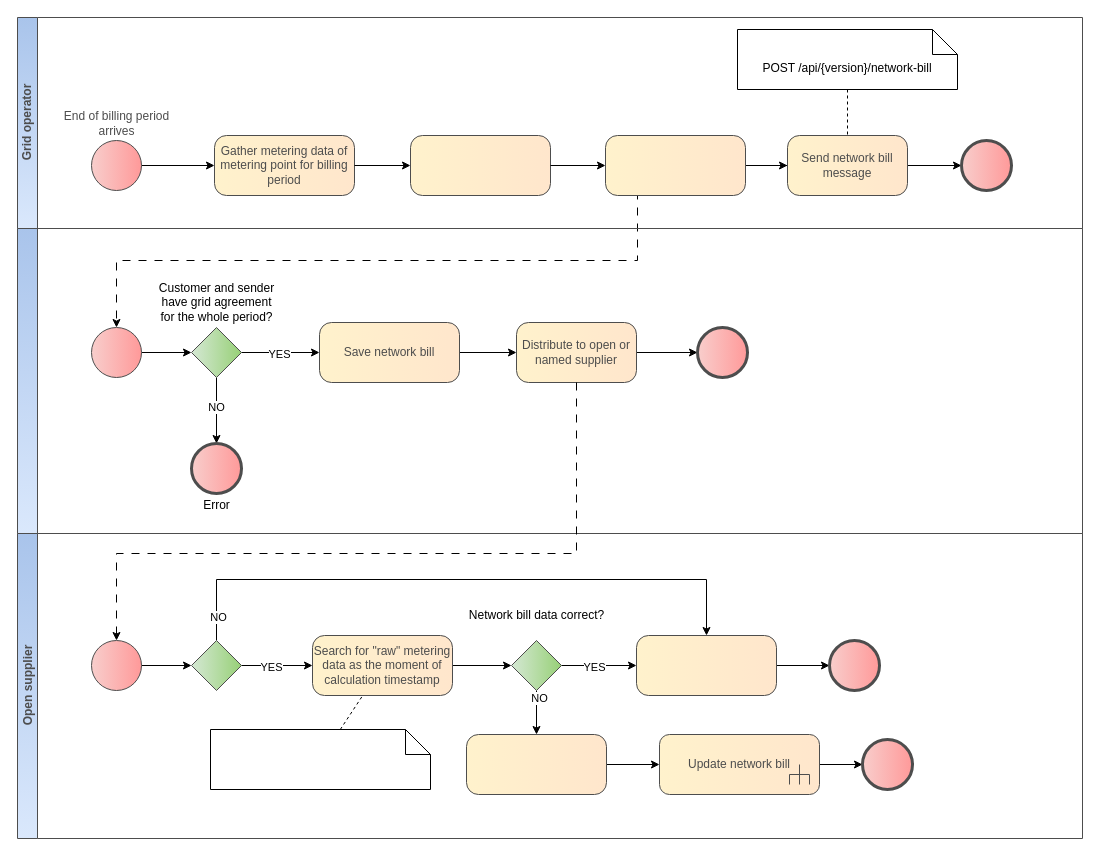
This 1100x856 diagram has some shape labels left out. Here are the shapes that lost their labels. From the top down, the centre of each, then its label:
(480,165): Set calculation timestamp
(675,165): Summarize day, night and total values (IN and OUT)
(549,381): Datahub
(216,665): Wants?
(706,665): Compose and send open supply bill (outside Datahub)
(320,759): POST /api/{version}/meter-data/search
(536,764): Notify grid operator (outside Datahub)
